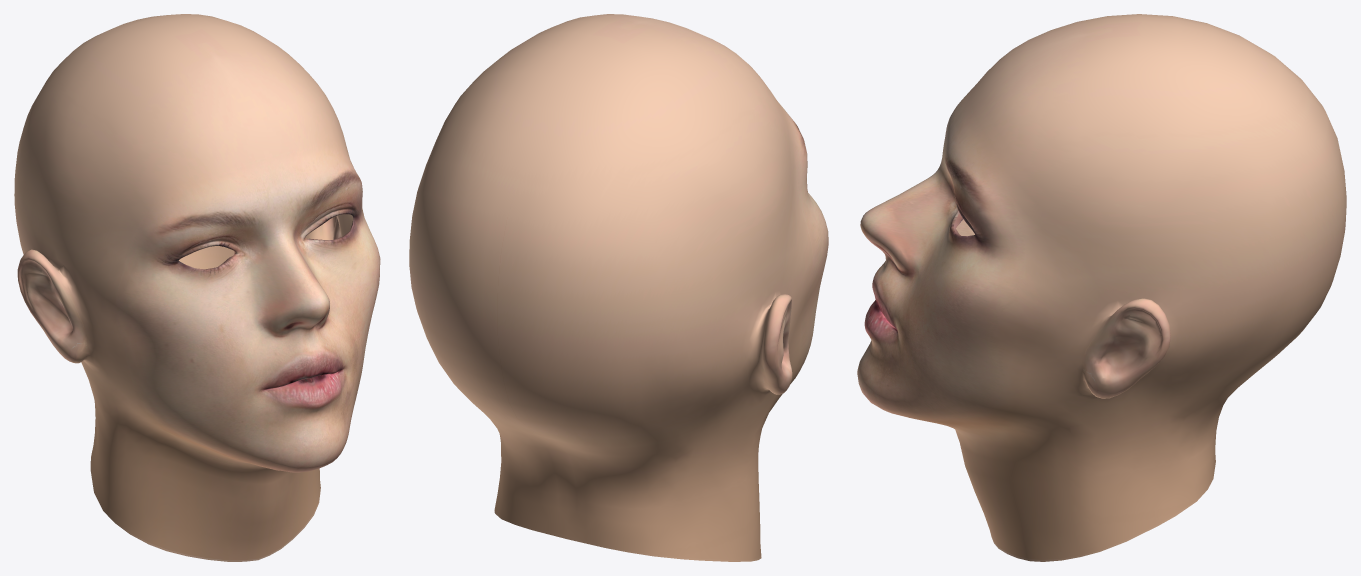
3 views of the same model, side by side, from view 1: azimuth 30°, elevation 25°; view 2: azimuth 150°, elevation 25°; view 3: azimuth 270°, elevation 25° (orthographic). The views are drawn at different scales.
Visible parts, largest first — view 1: Mesh_2; view 2: Mesh_2; view 3: Mesh_2.
Part boxes in pixels (x1,y1,x2,y2): Mesh_2: [14, 14, 380, 561]; Mesh_2: [409, 14, 828, 561]; Mesh_2: [857, 14, 1346, 561].
Bounding box in the file's own units: 195 × 281 × 244.
1 material, 1 textured.
